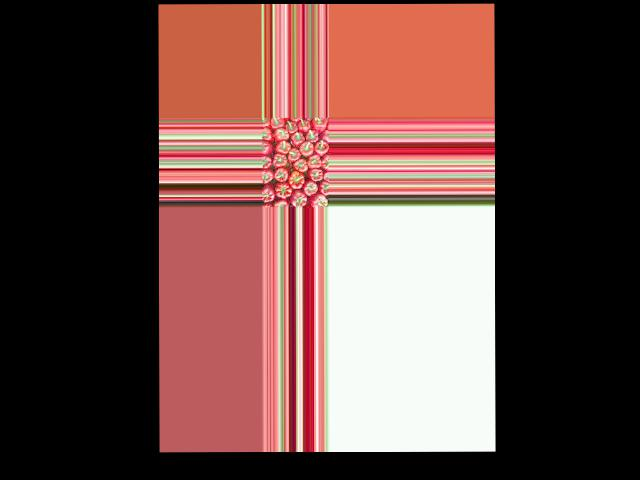bell_pepper: (313, 118, 327, 132)
